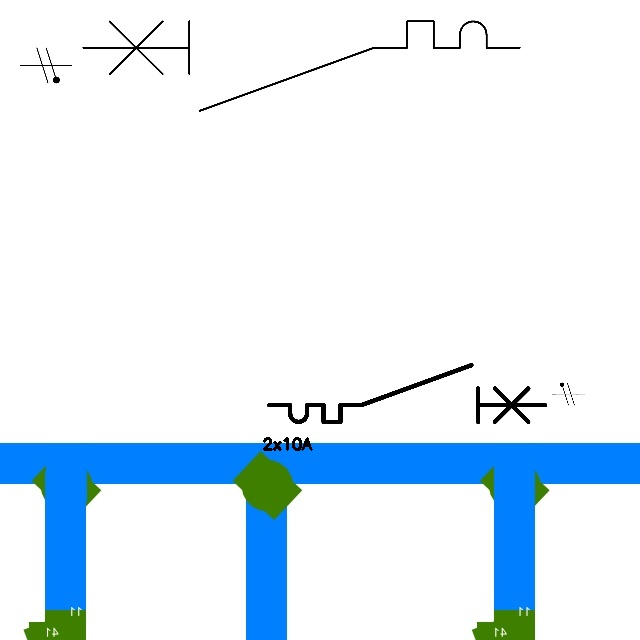interruptor_termomagnetico: (71, 10, 530, 122), (262, 358, 552, 429)
